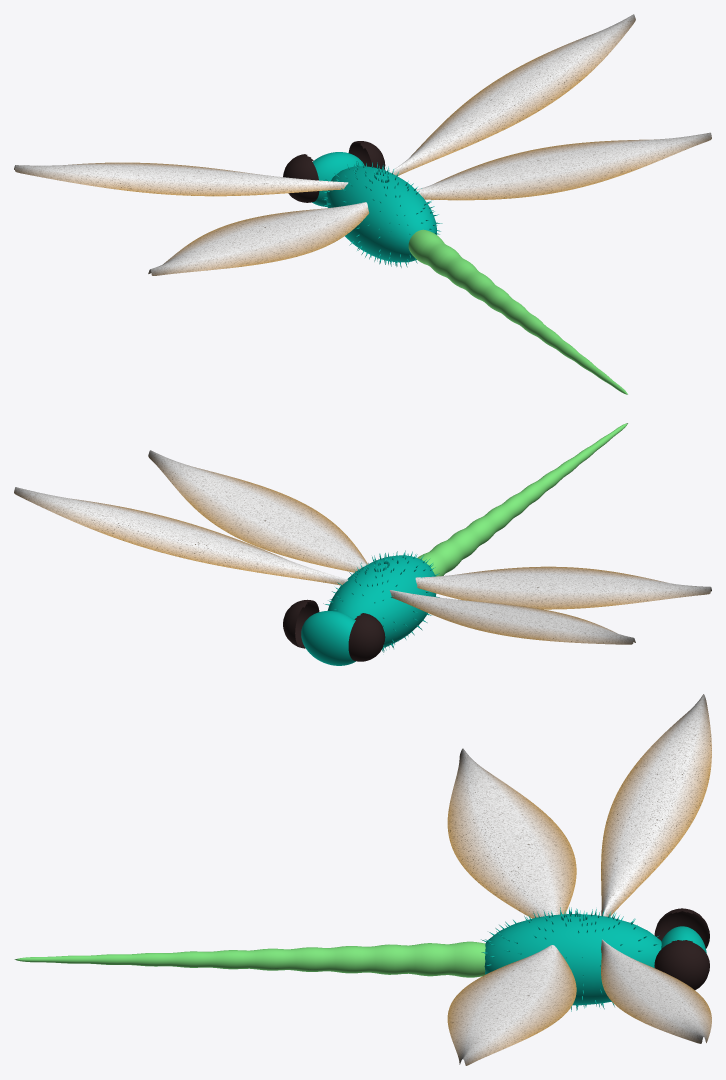
3 views of the same model, one above another, from view 1: azimuth 30°, elevation 25°; view 2: azimuth 150°, elevation 25°; view 3: azimuth 270°, elevation 25° (orthographic). The views are drawn at different scales.
Parts seen in each view (by area): view 1: hindwing, forewing, hindwing.001, forewing.001, thorax, abdomen, head, compound_eye.001, compound_eye; view 2: hindwing, hindwing.001, forewing, forewing.001, thorax, abdomen, head, compound_eye.001, compound_eye; view 3: hindwing.001, forewing.001, abdomen, hindwing, thorax, forewing, compound_eye, compound_eye.001.
Part boxes in pixels (x1,y1,x2,y2): hindwing: [416, 132, 711, 200]; forewing: [390, 14, 635, 175]; hindwing.001: [148, 202, 369, 275]; forewing.001: [14, 162, 348, 196]; thorax: [321, 161, 442, 267]; abdomen: [408, 229, 627, 394]; head: [312, 152, 364, 206]; compound_eye.001: [283, 154, 319, 202]; compound_eye: [348, 141, 385, 170]; hindwing: [148, 450, 367, 572]; hindwing.001: [415, 566, 711, 609]; forewing: [14, 487, 347, 585]; forewing.001: [389, 590, 635, 644]; thorax: [323, 550, 439, 652]; abdomen: [417, 423, 627, 576]; head: [301, 611, 355, 665]; compound_eye.001: [348, 613, 385, 661]; compound_eye: [283, 599, 319, 648]; hindwing.001: [447, 748, 576, 918]; forewing.001: [601, 694, 711, 916]; abdomen: [14, 941, 485, 977]; hindwing: [447, 945, 576, 1065]; thorax: [481, 907, 661, 1011]; forewing: [601, 939, 711, 1043]; compound_eye: [654, 940, 709, 989]; compound_eye.001: [654, 908, 709, 948].
Size of the model in its own units: 10.24 by 1.97 by 8.78.
7 materials, 4 textured.
